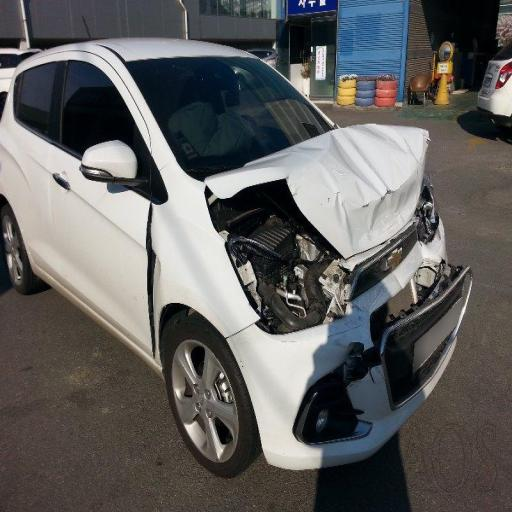broken: (210, 163, 446, 399), (99, 154, 187, 367)
